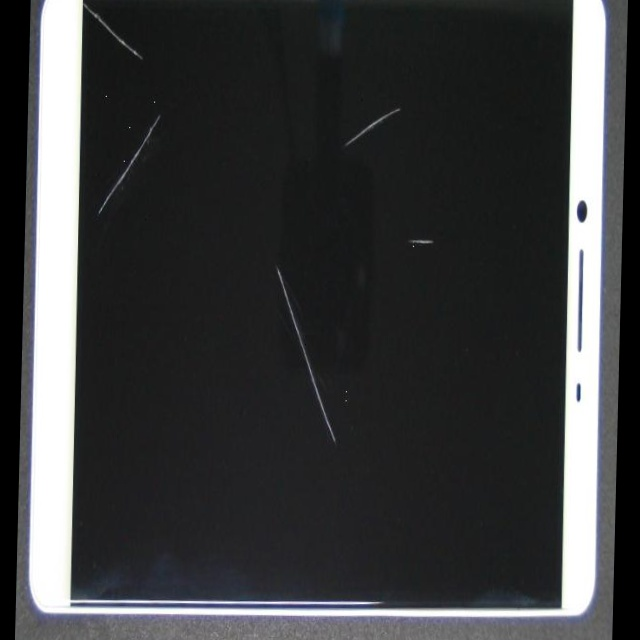scratch: (219, 61, 599, 398), (154, 81, 409, 408), (182, 27, 500, 246), (130, 0, 197, 234), (40, 0, 120, 52)
